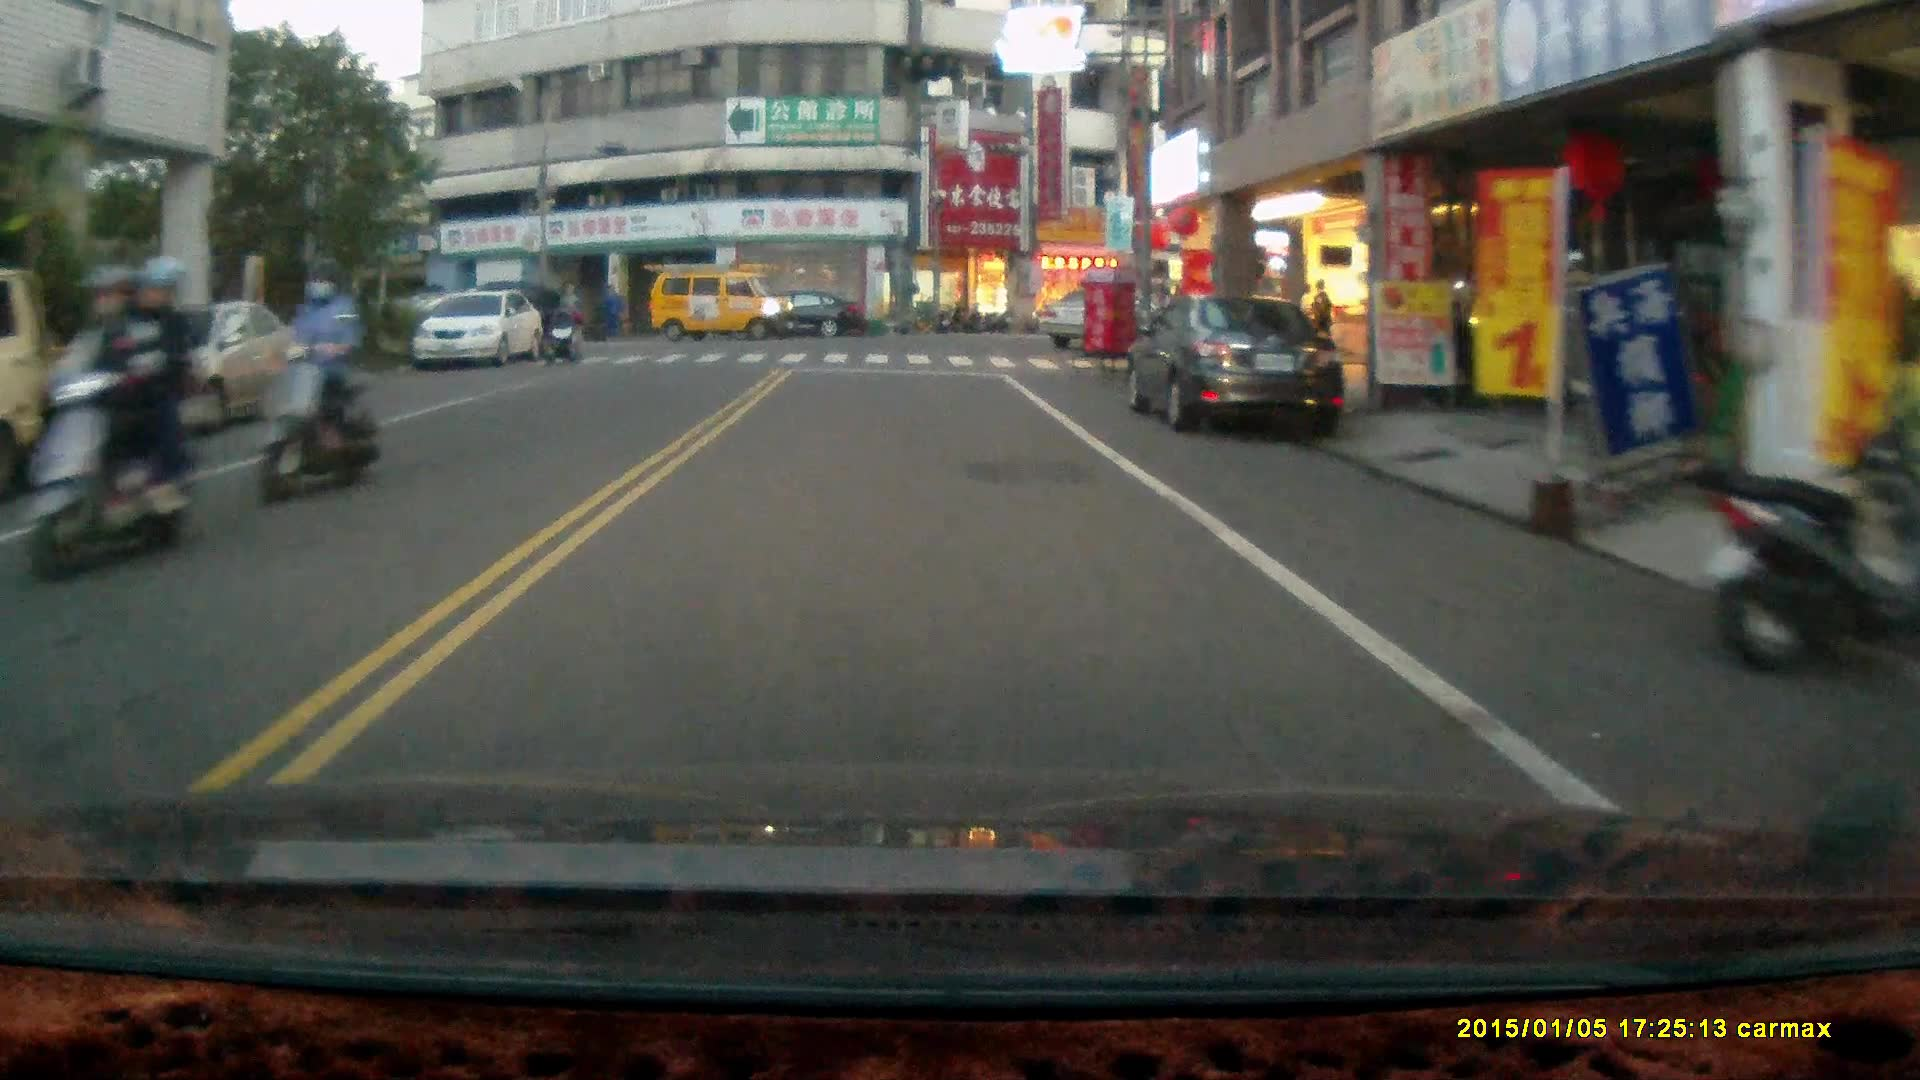pedestrian: (1310, 277, 1335, 364), (559, 280, 582, 345)
rider: (24, 255, 192, 585), (256, 251, 383, 507), (539, 304, 584, 366)
vehicle: (1, 266, 228, 489), (1125, 293, 1357, 449), (125, 297, 317, 429), (650, 259, 795, 344), (414, 288, 543, 370), (741, 287, 868, 338)
